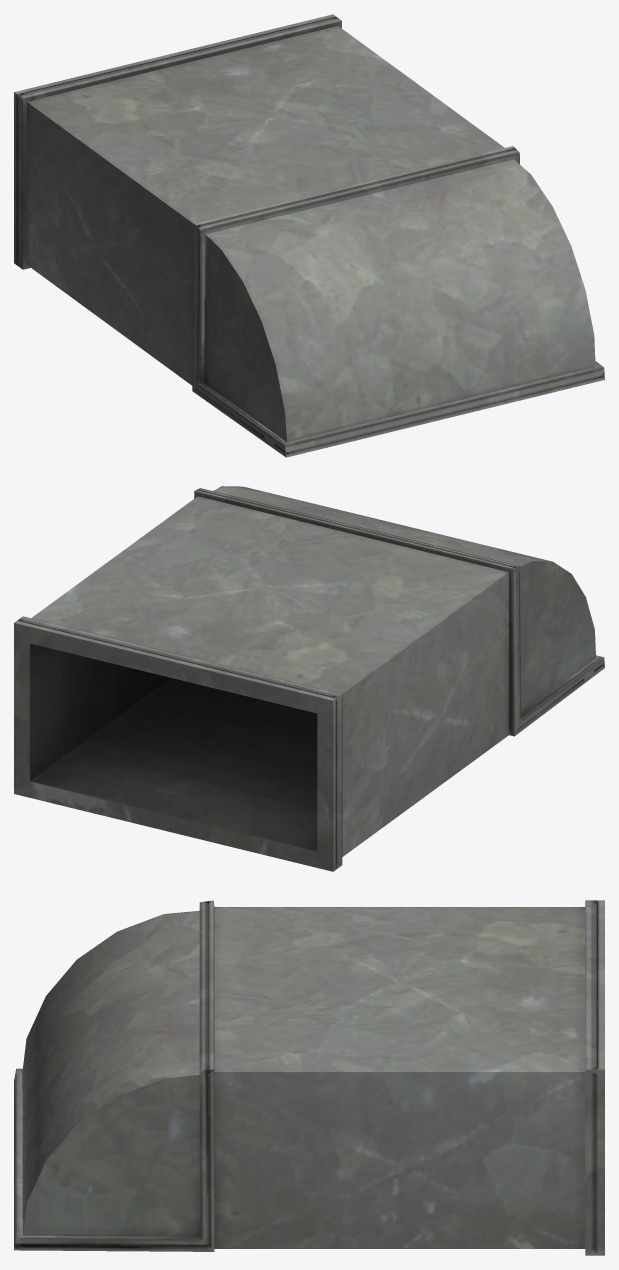
File: AirDuct03.FBX
3 views of the same model, one above another, from view 1: azimuth 30°, elevation 25°; view 2: azimuth 150°, elevation 25°; view 3: azimuth 270°, elevation 25° (orthographic). The views are drawn at different scales.
Parts seen in each view (by area): view 1: AirDuct03; view 2: AirDuct03; view 3: AirDuct03.
Part boxes in pixels (x1=…): AirDuct03: x1=14, y1=14, x2=604, y2=457; AirDuct03: x1=14, y1=486, x2=604, y2=871; AirDuct03: x1=14, y1=900, x2=604, y2=1255.
Bounding box in the file's own units: 1.11 × 0.5556 × 1.51.
